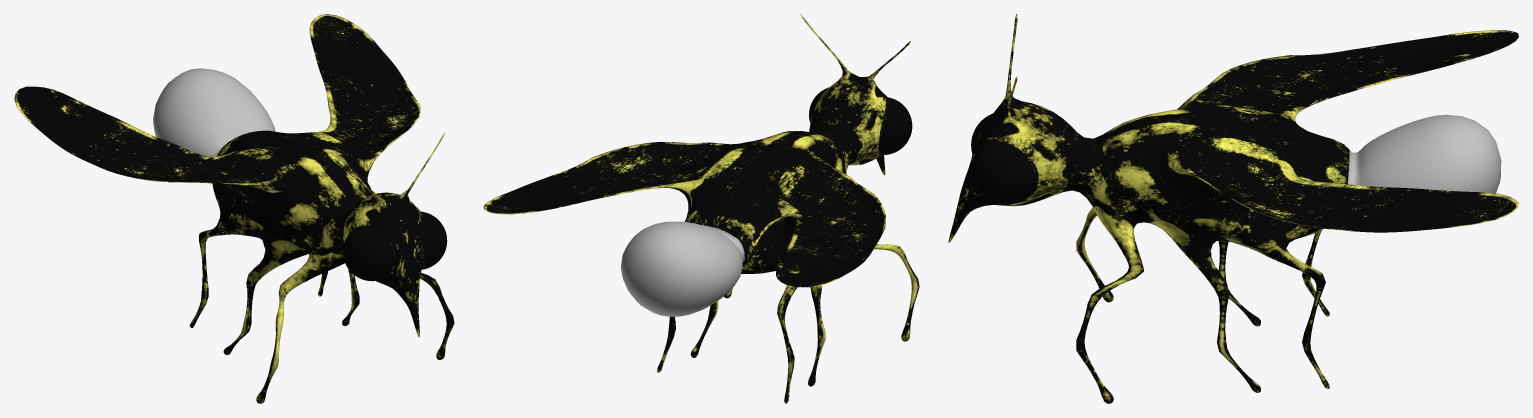
File: luciernaga.obj
3 views of the same model, side by side, from view 1: azimuth 30°, elevation 25°; view 2: azimuth 150°, elevation 25°; view 3: azimuth 270°, elevation 25° (orthographic). The views are drawn at different scales.
Parts seen in each view (by area): view 1: Group21743, Group32071, Group32070; view 2: Group21743, Group32071; view 3: Group21743, Group32070.
Boxes of the visible parts, <box> form: Group21743: <box>14,14,454,403</box>; Group32071: <box>343,226,395,281</box>; Group32070: <box>420,211,447,269</box>; Group21743: <box>483,14,919,403</box>; Group32071: <box>880,97,912,154</box>; Group21743: <box>948,14,1518,403</box>; Group32070: <box>971,141,1035,204</box>.
Size of the model in its own units: 2.7 by 2.05 by 3.37.
